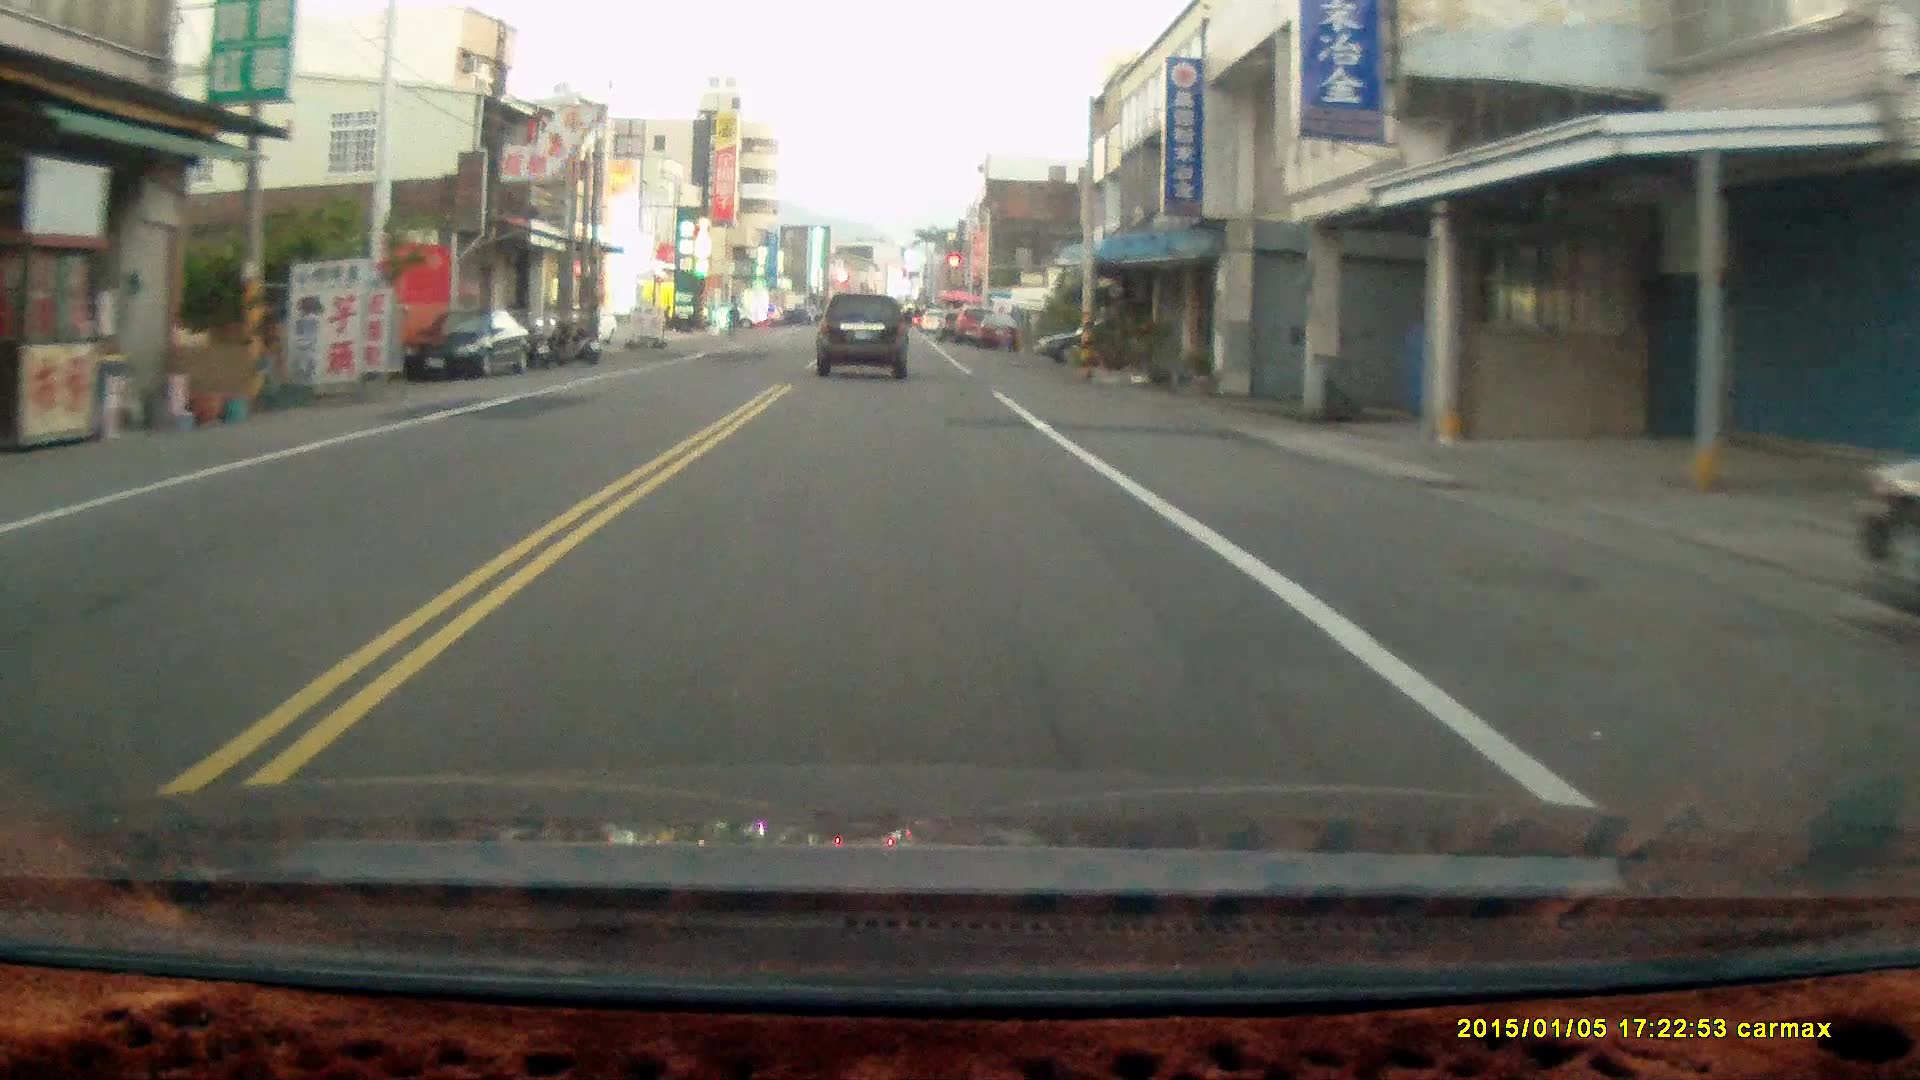vehicle: (404, 305, 534, 381), (818, 293, 910, 381)
